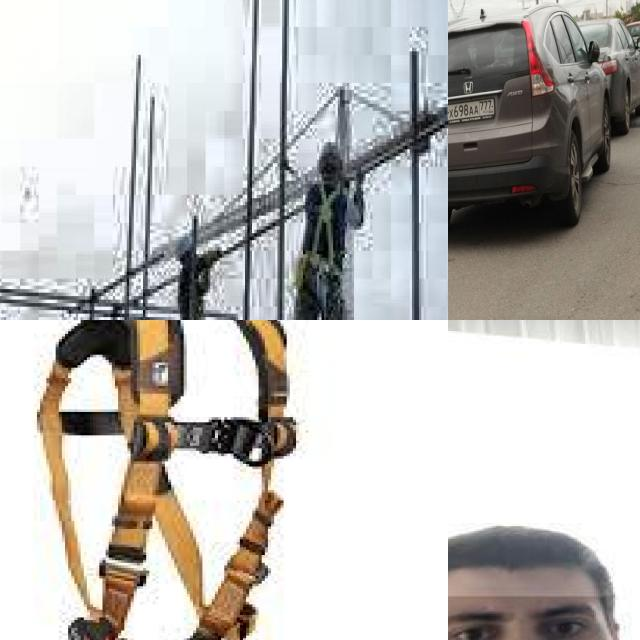Harness: (32, 320, 298, 640), (312, 182, 339, 263)
No_Glasses: (448, 595, 618, 640)
head_nohelmet: (448, 524, 632, 596)
